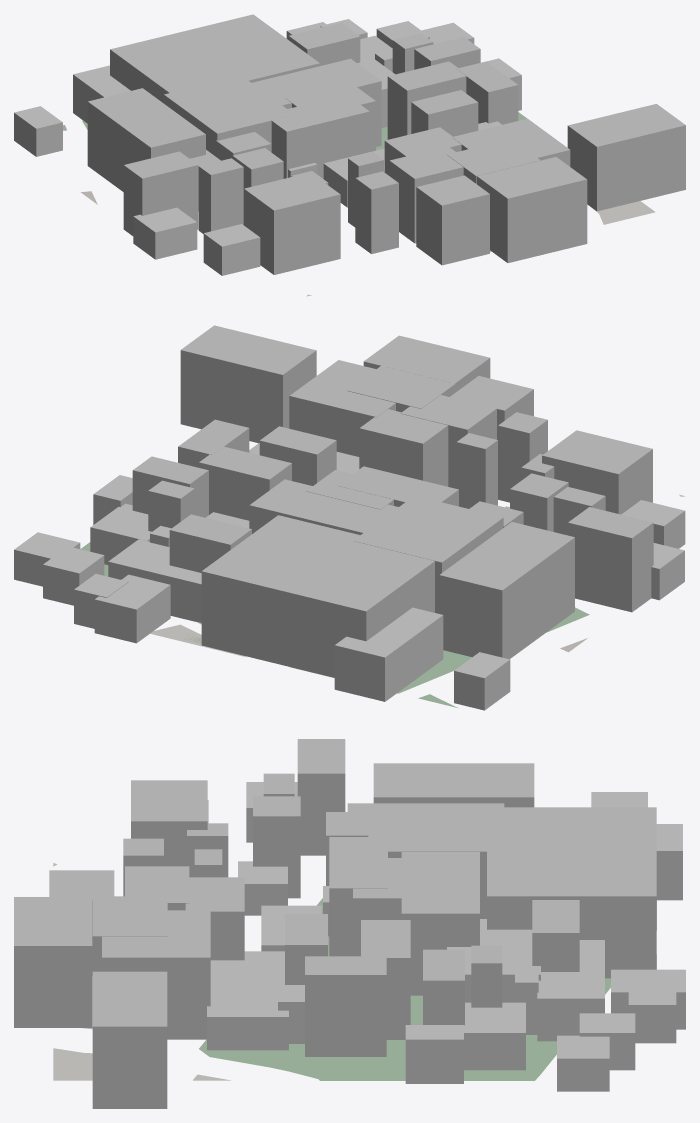
Rendered from 130_103_mid.glb.
The picture shows the model from 3 angles, top to bottom: view 1: azimuth 30°, elevation 25°; view 2: azimuth 150°, elevation 25°; view 3: azimuth 270°, elevation 25°; orthographic projection. The views are drawn at different scales.
Bounding box in the file's own units: 572 × 76.68 × 557.
